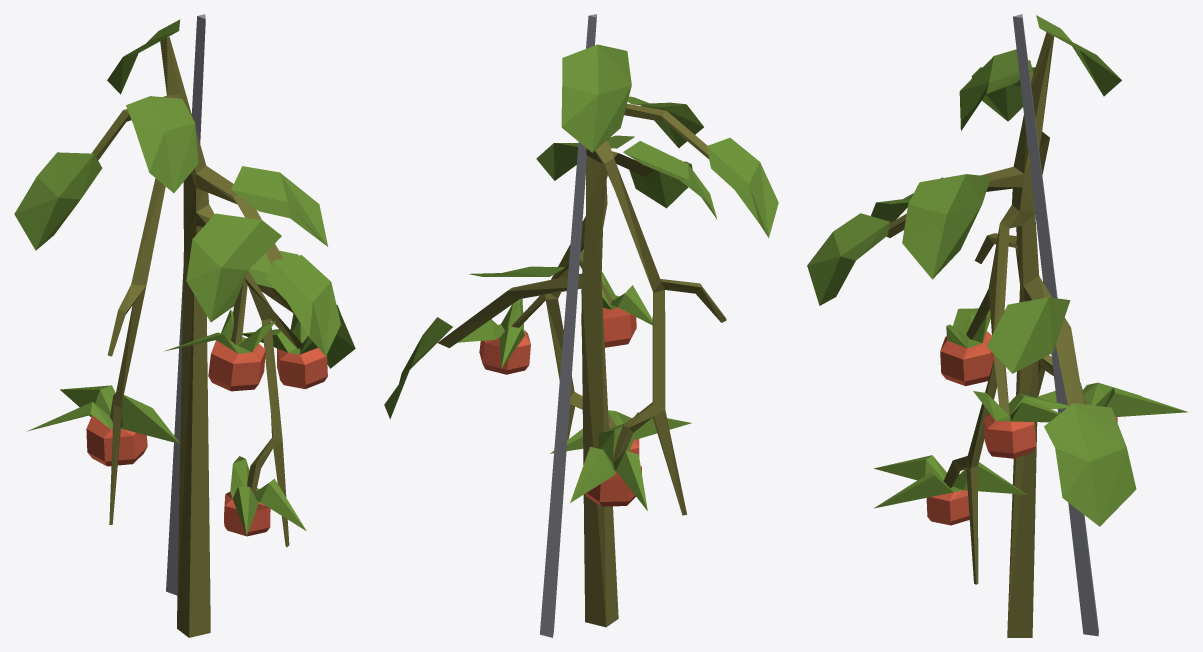
Rendered from plant_M05.FBX.
The picture shows the model from 3 angles, left to right: view 1: azimuth 30°, elevation 25°; view 2: azimuth 150°, elevation 25°; view 3: azimuth 270°, elevation 25°; orthographic projection. The views are drawn at different scales.
Visible parts, largest first — view 1: plant_M05; view 2: plant_M05; view 3: plant_M05.
Part boxes in pixels (x1,y1,x2,y2): plant_M05: (14,14,355,637); plant_M05: (384,14,778,637); plant_M05: (807,14,1188,637).
Size of the model in its own units: 109 by 181 by 101.
Materials: 1 (1 with a texture image).
